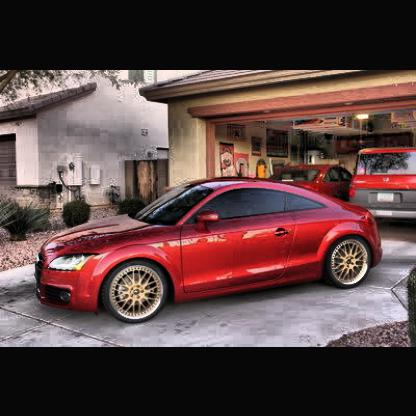Audi TT RS Coupe 2012: (34, 172, 387, 324)
